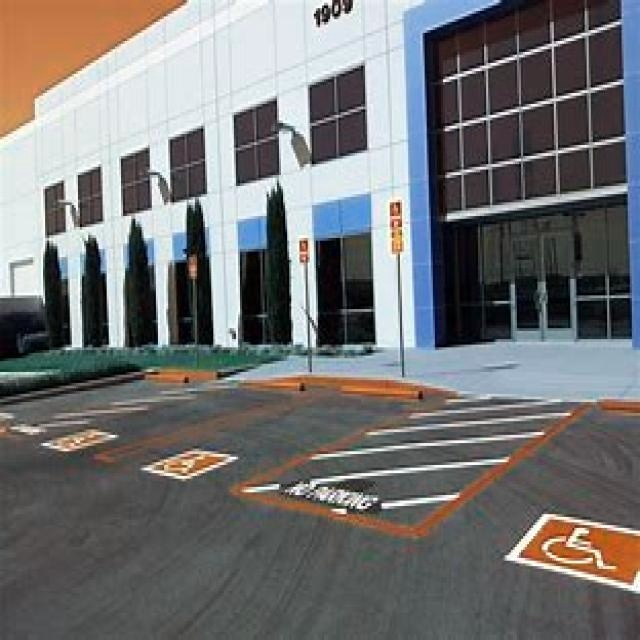ISA: (542, 523, 619, 579), (162, 448, 209, 480), (63, 430, 102, 448)
